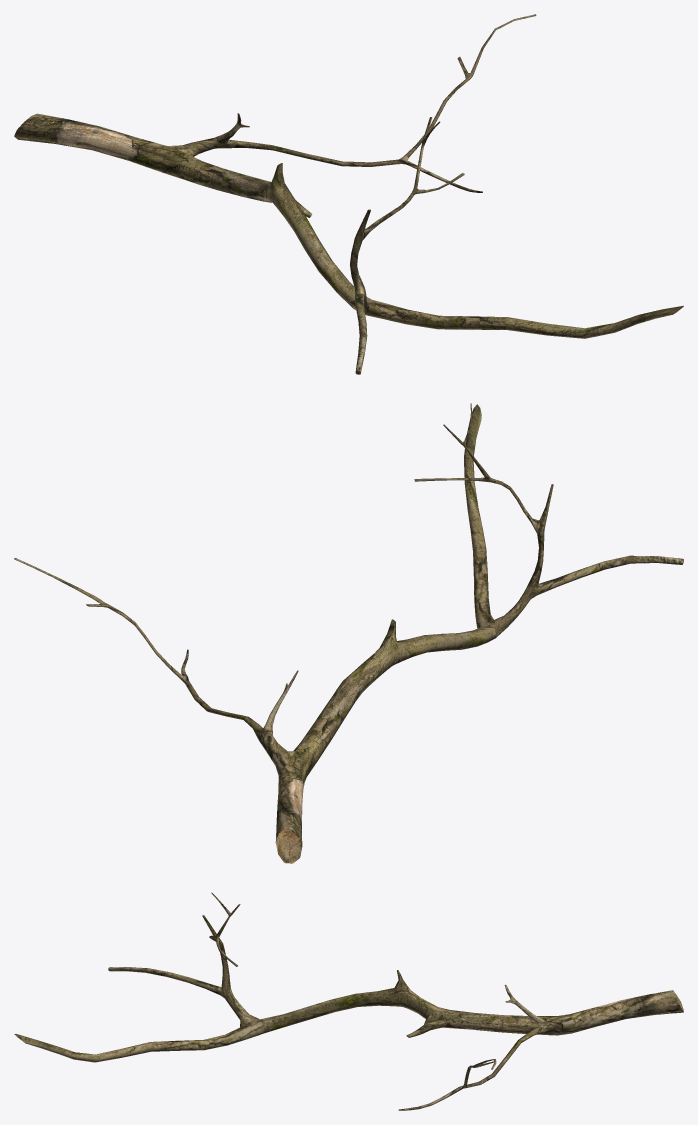
File: gsc_branche.glb
The picture shows the model from 3 angles, top to bottom: view 1: azimuth 30°, elevation 25°; view 2: azimuth 150°, elevation 25°; view 3: azimuth 270°, elevation 25°; orthographic projection. The views are drawn at different scales.
Parts seen in each view (by area): view 1: branche_Material #0_0; view 2: branche_Material #0_0; view 3: branche_Material #0_0.
Boxes of the visible parts, box(x1,y1,x2,y2) form: branche_Material #0_0: box(14, 14, 683, 374); branche_Material #0_0: box(14, 403, 683, 863); branche_Material #0_0: box(14, 892, 683, 1110).
Bounding box in the file's own units: 0.8925 × 0.4214 × 1.56.
Materials: 1 (1 with a texture image).
